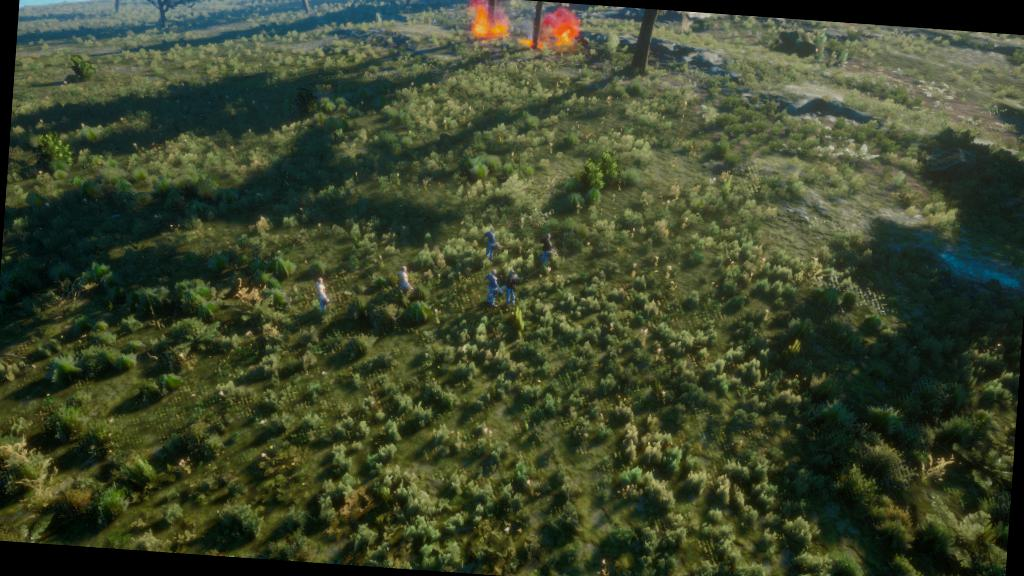Fire: (520, 4, 586, 58), (458, 0, 519, 49)
human: (300, 270, 340, 322), (386, 262, 420, 306), (533, 230, 562, 276), (476, 223, 502, 264), (500, 268, 526, 308), (480, 267, 502, 309)
